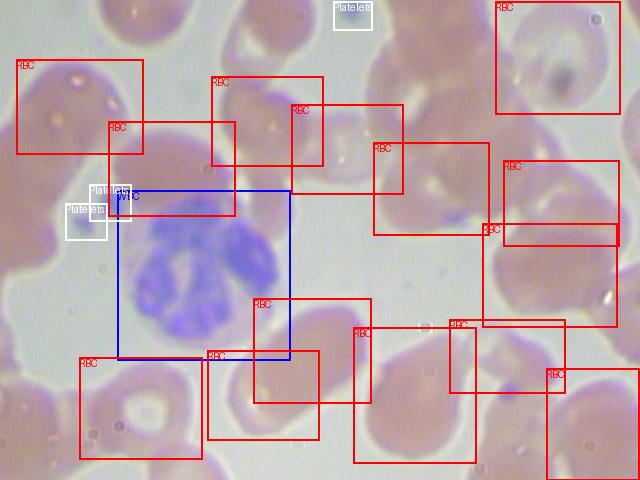Platelets: (89, 184, 131, 221), (65, 203, 107, 240), (333, 1, 372, 30)
RBC: (353, 327, 476, 463), (495, 1, 620, 114), (482, 223, 617, 327), (79, 357, 202, 459), (253, 298, 371, 403), (108, 121, 235, 216), (16, 59, 143, 154), (373, 142, 489, 235), (546, 368, 639, 480), (291, 104, 403, 194), (211, 76, 323, 166), (207, 350, 319, 440), (503, 160, 619, 246), (449, 319, 565, 393)
WBC: (117, 190, 290, 360)
